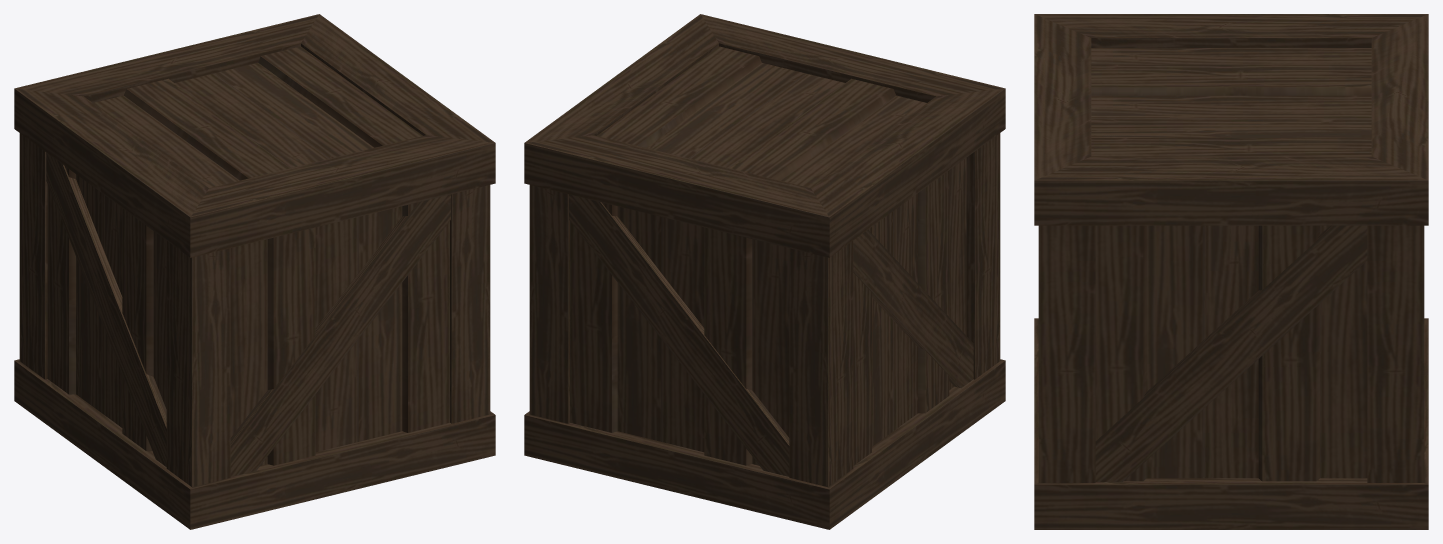
Rendered from Prop_Crate.gltf.
3 renders of one model, left to right at view 1: azimuth 30°, elevation 25°; view 2: azimuth 150°, elevation 25°; view 3: azimuth 270°, elevation 25°, orthographic. The views are drawn at different scales.
Visible parts, largest first — view 1: Prop_Crate; view 2: Prop_Crate; view 3: Prop_Crate.
Boxes of the visible parts, x1,y1,x2,y2 form: Prop_Crate: (14, 14, 495, 529); Prop_Crate: (524, 14, 1005, 529); Prop_Crate: (1034, 14, 1428, 529).
Bounding box in the file's own units: 1.08 × 1.06 × 1.08.
1 material, 1 textured.
